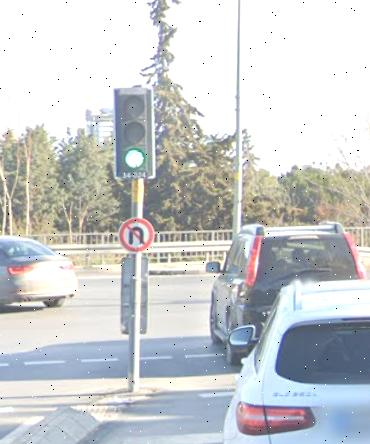greenlight: (115, 85, 158, 181)
